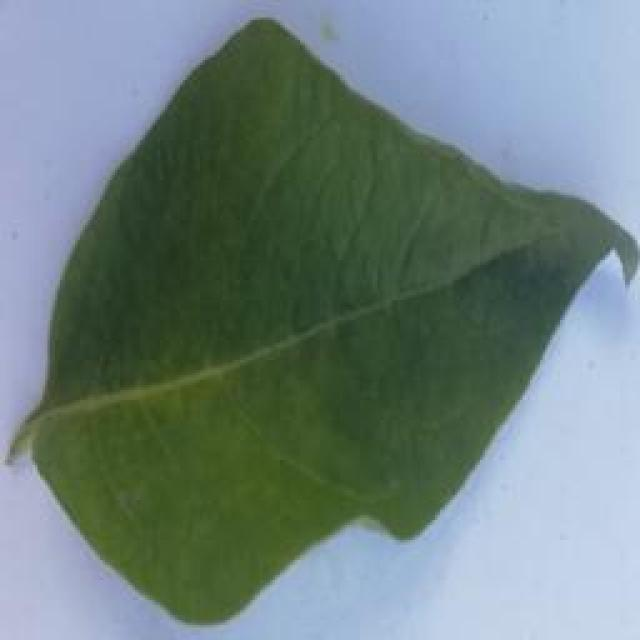Potato_Healthy: (10, 17, 629, 628)
